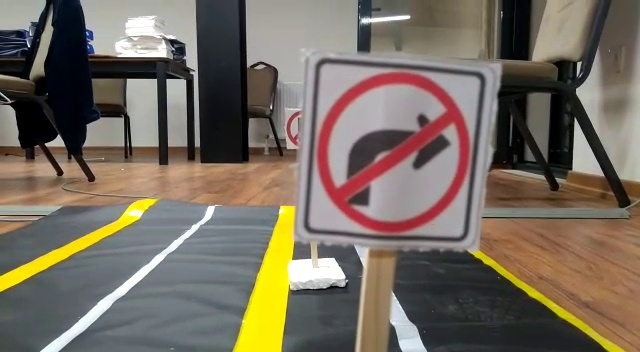saga_donulmez: (315, 65, 474, 241)
